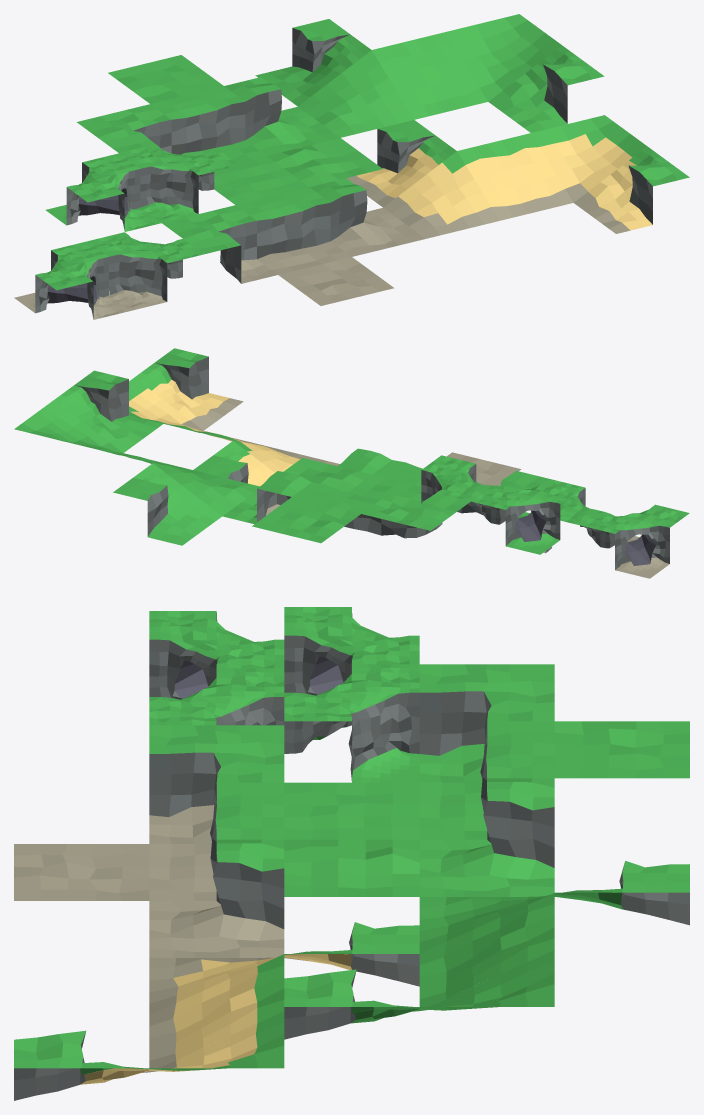
The model's file is CubicTerrain.fbx.
3 renders of one model, top to bottom at view 1: azimuth 30°, elevation 25°; view 2: azimuth 150°, elevation 25°; view 3: azimuth 270°, elevation 25°, orthographic. The views are drawn at different scales.
Visible parts, largest first — view 1: BasicSlope, SeaSlope, SeaCliff, SeaSlopeCornerInner, BasicSlopeCornerOuter, SeaSlopeCornerOuter, BasicSlopeCornerInner, BasicCliff, BasicCliffIntersection, SeaCliffIntersection, BasicCliffToSlopeTransition, SeaCliffToSlopeTransition (+12 smaller); view 2: BasicCliffIntersectionWithTunnel, SeaCliffIntersectionWithTunnel, BasicSlopeToCliffTransition, BasicCliffToSlopeTransition, SeaCliffToSlopeTransition, BasicRaisedFloor, BasicCliffCornerInner, BasicCliffIntersection, BasicSlopeCornerOuter, BasicSlopeCornerInner, BasicCliffCornerOuter, SeaSlopeToCliffTransition (+10 smaller); view 3: BasicCliffCornerOuter, SeaCliffCornerOuter, BasicCliffCornerInner, SeaCliffCornerInner, BasicCliffIntersection, BasicCliff, SeaCliff, BasicCliffIntersectionWithTunnel, SeaCliffIntersectionWithTunnel, BasicFloor, BasicFloor2, BasicRaisedFloor (+12 smaller).
Part boxes in pixels (x1=…): BasicSlope: x1=372, y1=32, x2=487, y2=119; SeaSlope: x1=457, y1=133, x2=573, y2=220; SeaCliff: x1=236, y1=187, x2=351, y2=274; SeaSlopeCornerInner: x1=531, y1=115, x2=646, y2=202; BasicSlopeCornerOuter: x1=298, y1=50, x2=414, y2=137; SeaSlopeCornerOuter: x1=383, y1=151, x2=499, y2=238; BasicSlopeCornerInner: x1=446, y1=14, x2=561, y2=101; BasicCliff: x1=150, y1=86, x2=266, y2=164; BasicCliffIntersection: x1=119, y1=144, x2=235, y2=222; SeaCliffIntersection: x1=88, y1=232, x2=203, y2=310; BasicCliffToSlopeTransition: x1=488, y1=45, x2=604, y2=132; SeaCliffToSlopeTransition: x1=574, y1=146, x2=689, y2=233; BasicCliffIntersectionWithTunnel: x1=471, y1=481, x2=579, y2=554; SeaCliffIntersectionWithTunnel: x1=580, y1=504, x2=689, y2=578; BasicSlopeToCliffTransition: x1=113, y1=463, x2=221, y2=545; BasicCliffToSlopeTransition: x1=54, y1=370, x2=163, y2=452; SeaCliffToSlopeTransition: x1=134, y1=348, x2=243, y2=430; BasicRaisedFloor: x1=252, y1=497, x2=360, y2=543; BasicCliffCornerInner: x1=362, y1=493, x2=470, y2=538; BasicCliffIntersection: x1=419, y1=455, x2=490, y2=529; BasicSlopeCornerOuter: x1=153, y1=463, x2=259, y2=516; BasicSlopeCornerInner: x1=14, y1=400, x2=122, y2=452; BasicCliffCornerOuter: x1=222, y1=471, x2=311, y2=524; SeaSlopeToCliffTransition: x1=193, y1=441, x2=280, y2=515; BasicCliffCornerOuter: x1=419, y1=778, x2=554, y2=896; SeaCliffCornerOuter: x1=149, y1=839, x2=284, y2=957; BasicCliffCornerInner: x1=419, y1=664, x2=554, y2=782; SeaCliffCornerInner: x1=149, y1=725, x2=284, y2=843; BasicCliffIntersection: x1=284, y1=664, x2=419, y2=782; BasicCliff: x1=419, y1=721, x2=554, y2=839; SeaCliff: x1=149, y1=782, x2=284, y2=900; BasicCliffIntersectionWithTunnel: x1=284, y1=607, x2=419, y2=695; SeaCliffIntersectionWithTunnel: x1=149, y1=611, x2=284, y2=699; BasicFloor: x1=284, y1=782, x2=419, y2=839; BasicFloor2: x1=284, y1=839, x2=419, y2=896; BasicRaisedFloor: x1=554, y1=721, x2=689, y2=778.
Size of the model in its own units: 3200 by 437 by 2000.
